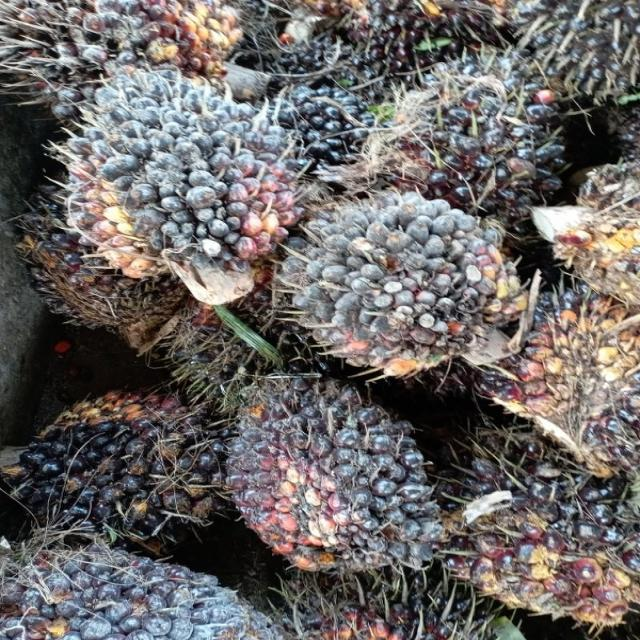fraksi 1: (44, 48, 298, 371), (126, 350, 469, 578), (269, 154, 529, 419)
